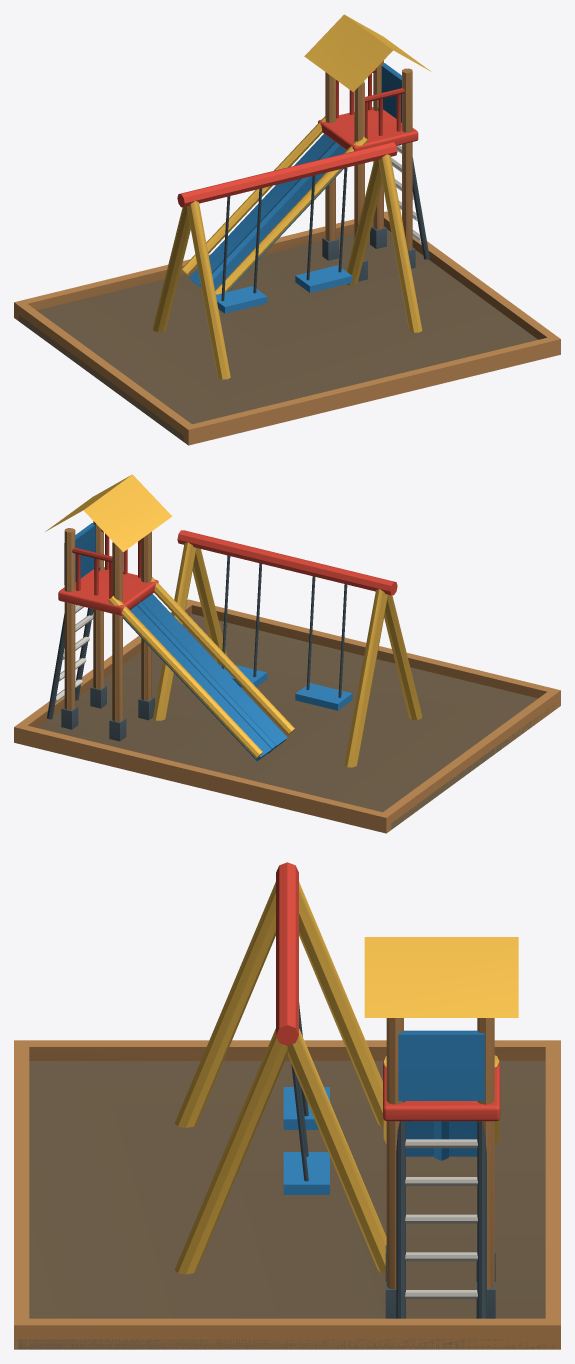
Rendered from playground.glb.
The picture shows the model from 3 angles, top to bottom: view 1: azimuth 30°, elevation 25°; view 2: azimuth 150°, elevation 25°; view 3: azimuth 270°, elevation 25°; orthographic projection. The views are drawn at different scales.
Visible parts, largest first — view 1: sand play area, play tower post, swing A frame, swing seat, swing beam, swing chain; view 2: sand play area, play tower post, swing A frame, swing seat, swing beam, swing chain, ladder step; view 3: sand play area, play tower post, swing A frame, swing seat, swing beam, swing chain, ladder step.
Part boxes in pixels (x1,y1,x2,y2): sand play area: (19, 229, 537, 441); play tower post: (14, 60, 560, 445); swing A frame: (152, 14, 431, 379); swing seat: (189, 63, 401, 313); swing beam: (177, 69, 418, 207); swing chain: (221, 107, 429, 300); sand play area: (37, 614, 554, 829); play tower post: (14, 521, 560, 833); swing A frame: (45, 474, 422, 767); swing seat: (64, 523, 352, 761); swing beam: (58, 529, 397, 615); swing chain: (47, 555, 347, 741); ladder step: (55, 605, 93, 702); sand play area: (18, 1061, 556, 1349); play tower post: (14, 1018, 560, 1349); swing A frame: (174, 882, 518, 1274); swing seat: (283, 1030, 484, 1194); swing beam: (276, 862, 500, 1121); swing chain: (291, 1003, 495, 1318); ladder step: (405, 1139, 477, 1298).
Bounding box in the file's own units: 3.5 × 2.14 × 2.84.
